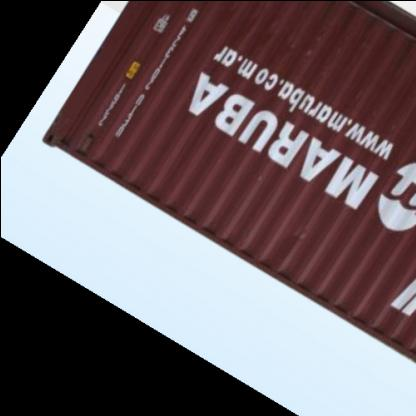Damage: (238, 25, 325, 66), (286, 213, 308, 264)
